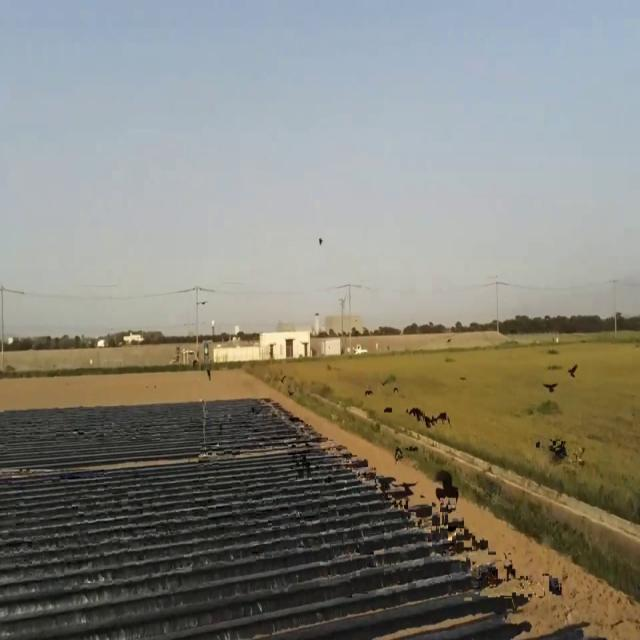bird: (544, 375, 558, 397), (567, 358, 578, 383), (383, 401, 393, 418)
